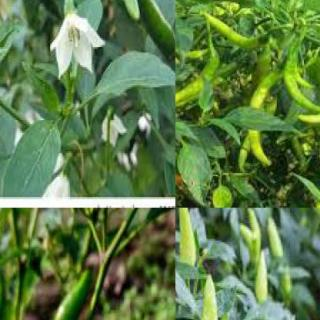green_chilli: (120, 0, 174, 66), (237, 96, 280, 174), (176, 51, 222, 117), (202, 11, 268, 51), (48, 268, 97, 320), (248, 66, 272, 164), (281, 61, 319, 114), (306, 113, 319, 207), (176, 208, 197, 264), (198, 272, 222, 319), (296, 81, 319, 128), (266, 216, 286, 262), (254, 251, 268, 304), (247, 208, 261, 258), (239, 221, 252, 260)
